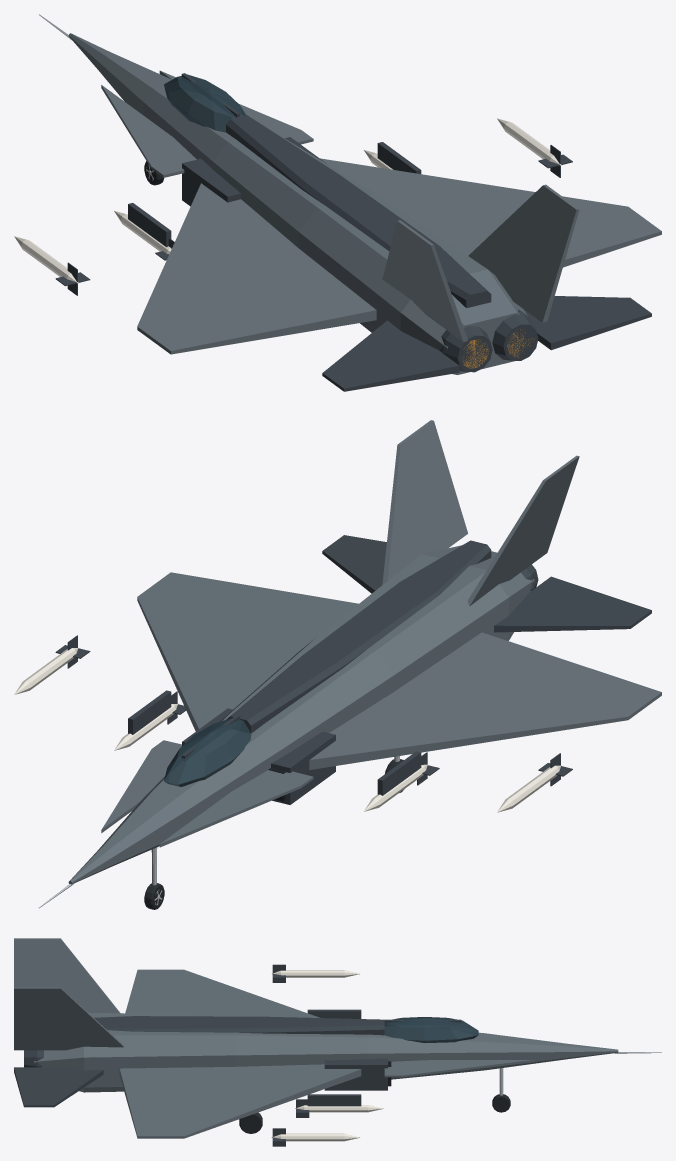
Rendered from AIR_05.obj.
3 views of the same model, one above another, from view 1: azimuth 30°, elevation 25°; view 2: azimuth 150°, elevation 25°; view 3: azimuth 270°, elevation 25° (orthographic). The views are drawn at different scales.
Visible parts, largest first — view 1: wings, fuselage, tail_fins, stabilators, spine, strakes, engine_nozzles, canopy, missiles, intakes, pylons, missile_fins (+1 smaller); view 2: wings, fuselage, tail_fins, spine, stabilators, strakes, canopy, missiles, intakes, pylons, missile_fins; view 3: wings, fuselage, tail_fins, spine, stabilators, canopy, missiles, strakes, intakes, pylons, missile_fins, gear_nose (+1 smaller).
Part boxes in pixels (left/top/right/bottom): wings: left=137, top=158, right=661, bottom=354; fuselage: left=68, top=33, right=527, bottom=374; tail_fins: left=382, top=184, right=579, bottom=341; stabilators: left=322, top=296, right=651, bottom=391; spine: left=226, top=115, right=491, bottom=308; strakes: left=101, top=70, right=313, bottom=177; engine_nozzles: left=439, top=309, right=538, bottom=372; canopy: left=164, top=74, right=245, bottom=132; missiles: left=14, top=118, right=561, bottom=283; intakes: left=182, top=137, right=326, bottom=206; pylons: left=128, top=142, right=421, bottom=247; missile_fins: left=55, top=145, right=572, bottom=295; wings: left=137, top=572, right=661, bottom=769; fuselage: left=68, top=545, right=534, bottom=884; tail_fins: left=382, top=420, right=579, bottom=606; spine: left=226, top=540, right=491, bottom=733; stabilators: left=322, top=535, right=651, bottom=632; strakes: left=101, top=740, right=313, bottom=847; canopy: left=164, top=718, right=251, bottom=786; missiles: left=14, top=647, right=561, bottom=812; intakes: left=182, top=708, right=335, bottom=804; pylons: left=128, top=690, right=421, bottom=795; missile_fins: left=55, top=635, right=572, bottom=786; wings: left=119, top=969, right=361, bottom=1138; fuselage: left=34, top=1012, right=618, bottom=1092; tail_fins: left=14, top=938, right=123, bottom=1050; spine: left=94, top=1016, right=384, bottom=1035; stabilators: left=14, top=1067, right=103, bottom=1107; canopy: left=384, top=1017, right=478, bottom=1042; missiles: left=271, top=970, right=383, bottom=1141; strakes: left=384, top=1060, right=534, bottom=1077; intakes: left=324, top=1058, right=387, bottom=1090; pylons: left=307, top=1009, right=361, bottom=1106; missile_fins: left=272, top=964, right=309, bottom=1146; gear_nose: left=492, top=1068, right=510, bottom=1112.
Size of the model in its own units: 12.2 by 4.9 by 19.41.
